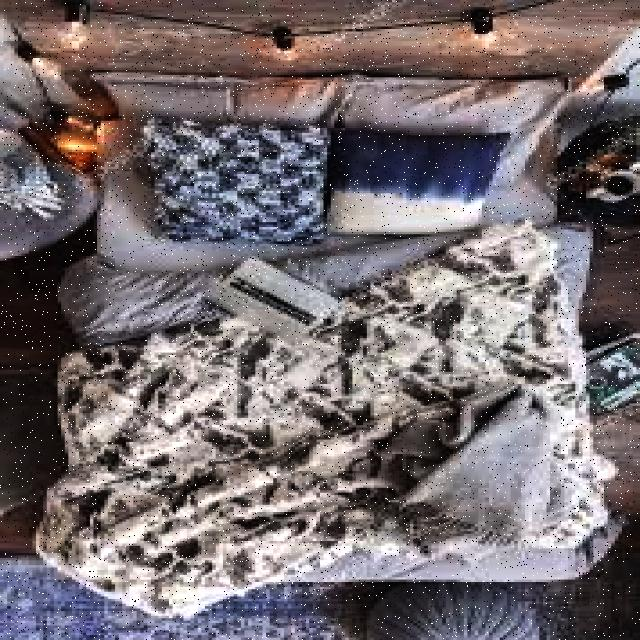bed: (98, 90, 592, 597)
